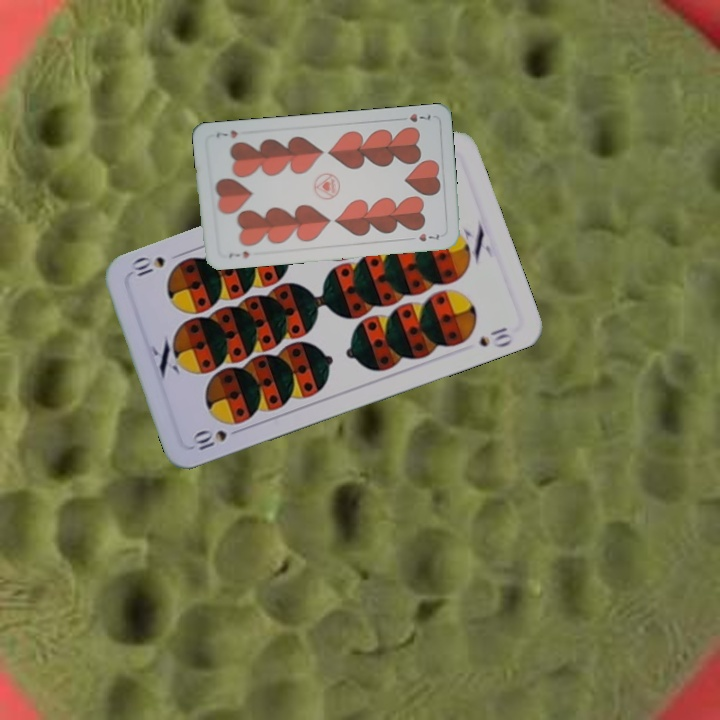H7: (395, 109, 433, 125), (225, 247, 252, 261)
S10: (188, 425, 230, 453)
